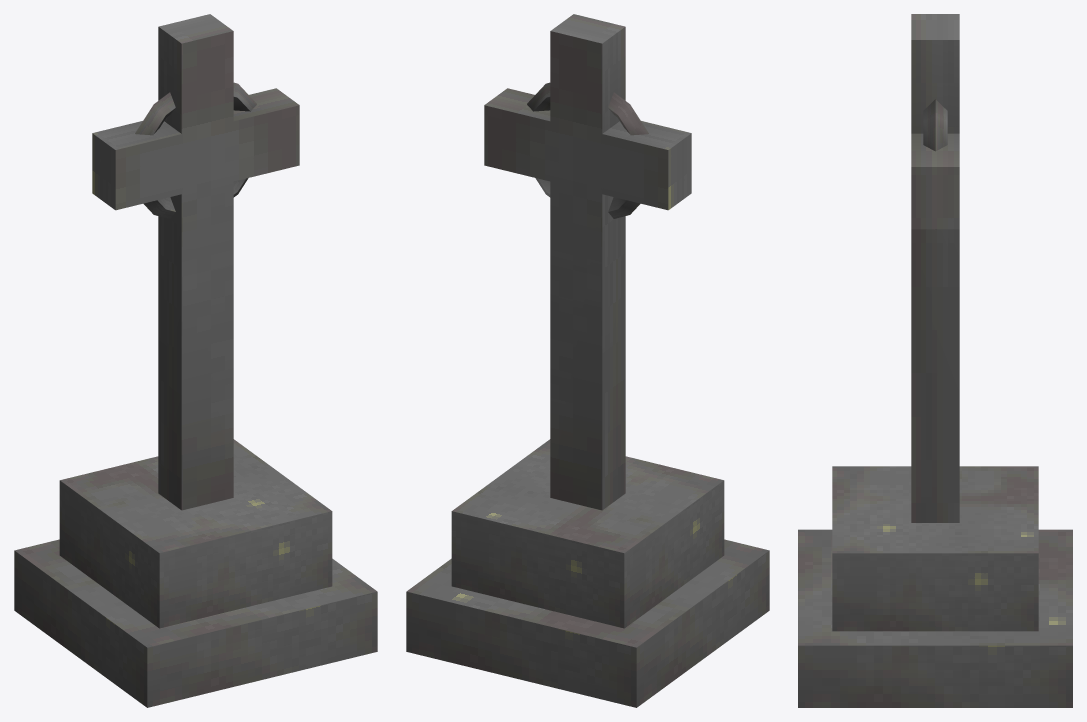
The model's file is celtic_cross.glb.
The picture shows the model from 3 angles, left to right: view 1: azimuth 30°, elevation 25°; view 2: azimuth 150°, elevation 25°; view 3: azimuth 270°, elevation 25°; orthographic projection. The views are drawn at different scales.
Parts seen in each view (by area): view 1: celtic_cross; view 2: celtic_cross; view 3: celtic_cross.
Part boxes in pixels (left/top/right/bottom): celtic_cross: left=14, top=14, right=377, bottom=707; celtic_cross: left=406, top=14, right=769, bottom=707; celtic_cross: left=798, top=14, right=1072, bottom=707.
Bounding box in the file's own units: 0.8 × 2 × 0.8.
Materials: 1 (1 with a texture image).
